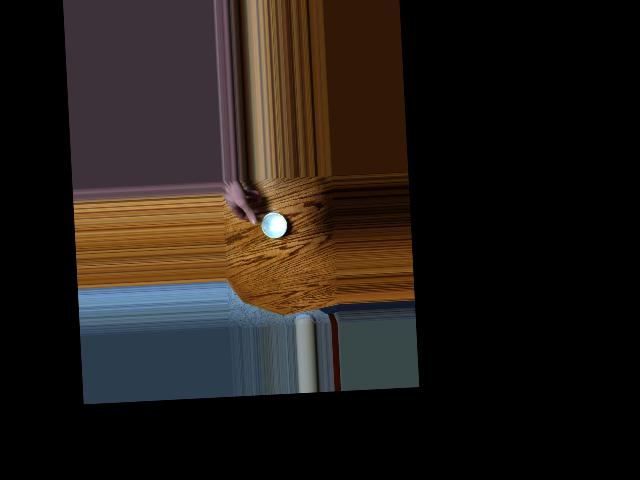cotage: (258, 205, 292, 244)
